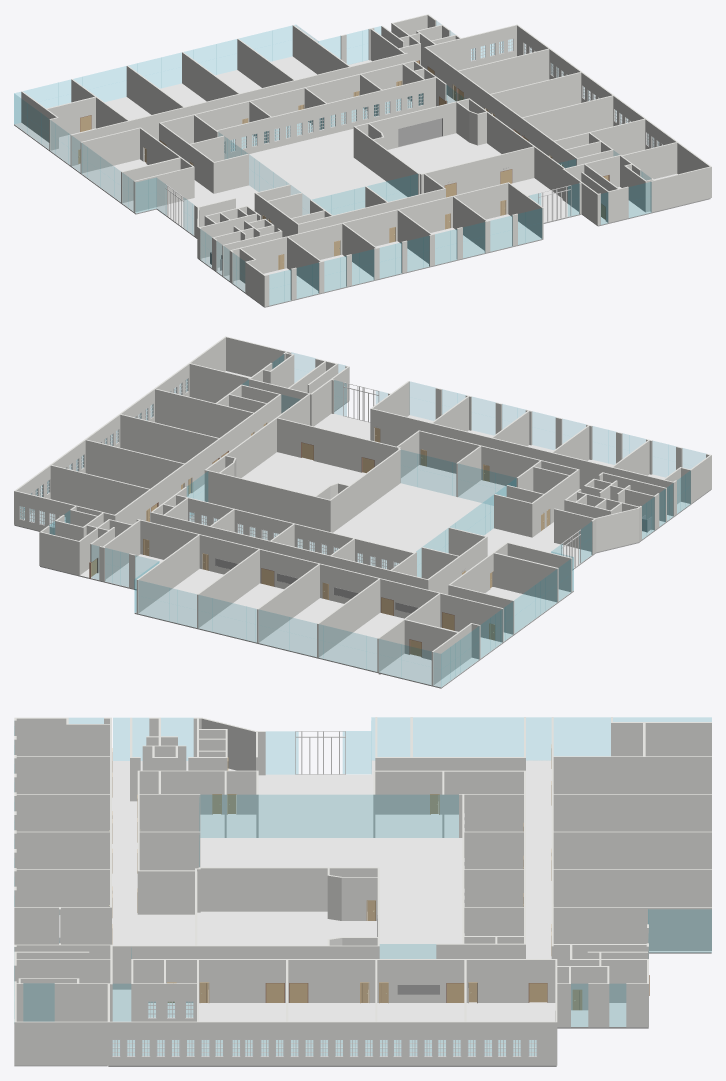
Rendered from 1楼墙体.gltf.
3 views of the same model, one above another, from view 1: azimuth 30°, elevation 25°; view 2: azimuth 150°, elevation 25°; view 3: azimuth 270°, elevation 25° (orthographic). The views are drawn at different scales.
Visible parts, largest first — view 1: 常规 140 - 20+120 [828984], 常规 - 200mm [791787], 常规 - 200mm [367109], 常规 - 200mm [432395], 常规 - 200mm [787339], 常规 - 200mm [435478], 常规 - 200mm [361772], 常规 - 200mm [360479], 常规 - 200mm [360535], 常规 - 200mm [360590], 常规 - 200mm [425923], 常规 - 200mm [362324] (+43 smaller); view 2: 常规 140 - 20+120 [828984], 常规 - 200mm [432395], 常规 - 200mm [362213], 常规 - 200mm [435478], 常规 - 200mm [787339], 常规 - 200mm [791787], 常规 - 200mm [361772], 常规 - 200mm [361418], 常规 - 200mm [367109], 常规 - 200mm [360590], 常规 - 200mm [360535], 常规 - 200mm [360479] (+46 smaller); view 3: 常规 140 - 20+120 [828984], 常规 - 200mm [787339], 常规 - 200mm [435478], 常规 - 200mm [356932], 常规 - 200mm [362324], 常规 - 200mm [356723], 常规 - 200mm [356034], 常规 - 200mm [356652], 常规 - 200mm [356786], 常规 - 200mm [366916], 常规 - 200mm [354483], 常规 - 200mm [353675] (+36 smaller).
Part boxes in pixels (x1,y1,x2,y2): 常规 140 - 20+120 [828984]: (14, 56, 655, 307); 常规 - 200mm [791787]: (217, 77, 435, 159); 常规 - 200mm [367109]: (160, 60, 414, 143); 常规 - 200mm [432395]: (70, 53, 407, 166); 常规 - 200mm [787339]: (516, 24, 711, 197); 常规 - 200mm [435478]: (425, 47, 578, 168); 常规 - 200mm [361772]: (425, 146, 534, 194); 常规 - 200mm [360479]: (522, 95, 613, 140); 常规 - 200mm [360535]: (490, 72, 581, 117); 常规 - 200mm [360590]: (458, 48, 549, 93); 常规 - 200mm [425923]: (398, 182, 508, 232); 常规 - 200mm [362324]: (354, 127, 418, 196); 常规 140 - 20+120 [828984]: (14, 401, 711, 688); 常规 - 200mm [432395]: (136, 519, 503, 642); 常规 - 200mm [362213]: (206, 470, 331, 532); 常规 - 200mm [435478]: (115, 394, 281, 524); 常规 - 200mm [787339]: (14, 336, 226, 524); 常规 - 200mm [791787]: (176, 494, 413, 569); 常规 - 200mm [361772]: (276, 417, 395, 472); 常规 - 200mm [361418]: (418, 430, 579, 489); 常规 - 200mm [367109]: (150, 512, 427, 589); 常规 - 200mm [360590]: (50, 465, 149, 514); 常规 - 200mm [360535]: (85, 439, 184, 488); 常规 - 200mm [360479]: (120, 414, 218, 463); 常规 140 - 20+120 [828984]: (108, 760, 711, 1066); 常规 - 200mm [787339]: (14, 1021, 557, 1065); 常规 - 200mm [435478]: (131, 959, 555, 1002); 常规 - 200mm [356932]: (553, 907, 711, 950); 常规 - 200mm [362324]: (200, 867, 377, 911); 常规 - 200mm [356723]: (553, 831, 711, 869); 常规 - 200mm [356034]: (553, 756, 711, 793); 常规 - 200mm [356652]: (553, 794, 711, 831); 常规 - 200mm [356786]: (553, 869, 711, 906); 常规 - 200mm [366916]: (375, 770, 525, 814); 常规 - 200mm [354483]: (16, 831, 111, 869); 常规 - 200mm [353675]: (14, 907, 111, 944).
Size of the model in its own units: 68.08 by 4.95 by 65.76.
